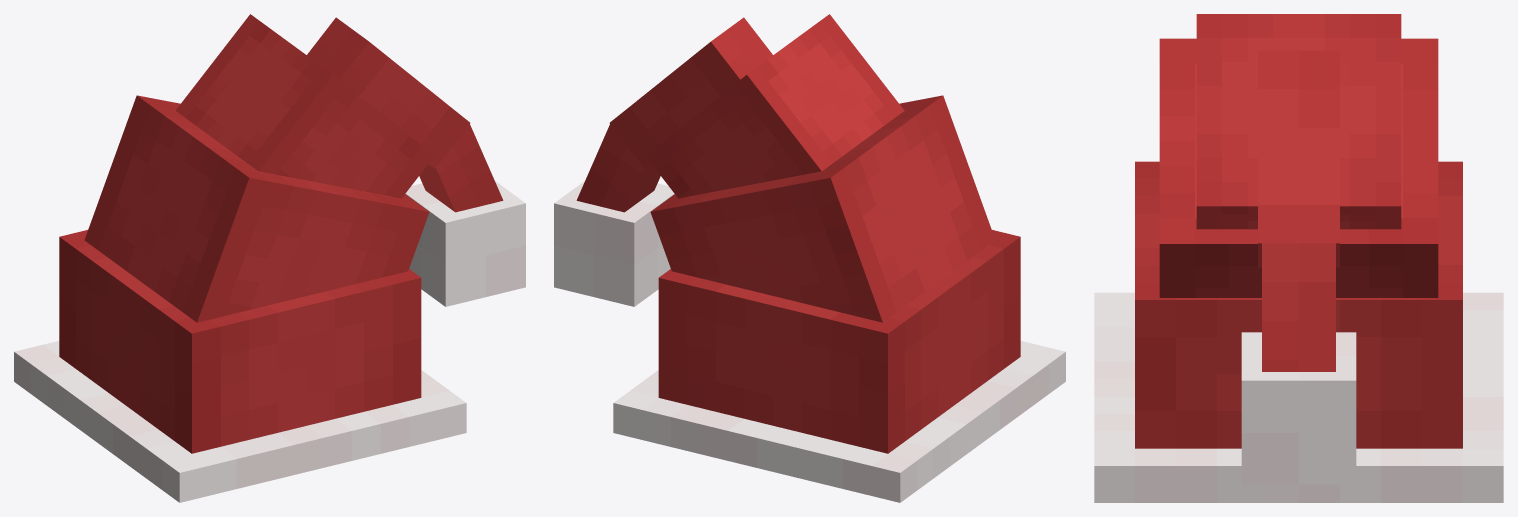
Rendered from santa.gltf.
3 renders of one model, left to right at view 1: azimuth 30°, elevation 25°; view 2: azimuth 150°, elevation 25°; view 3: azimuth 270°, elevation 25°, orthographic. The views are drawn at different scales.
Visible parts, largest first — view 1: cube (×7); view 2: cube (×7); view 3: cube (×7).
Part boxes in pixels (box(x1,y1,x2,y2)): cube (×7): box(14, 14, 525, 502); cube (×7): box(554, 14, 1065, 502); cube (×7): box(1094, 14, 1503, 502).
Bounding box in the file's own units: 0.8841 × 0.7297 × 0.625.
1 material, 1 textured.
